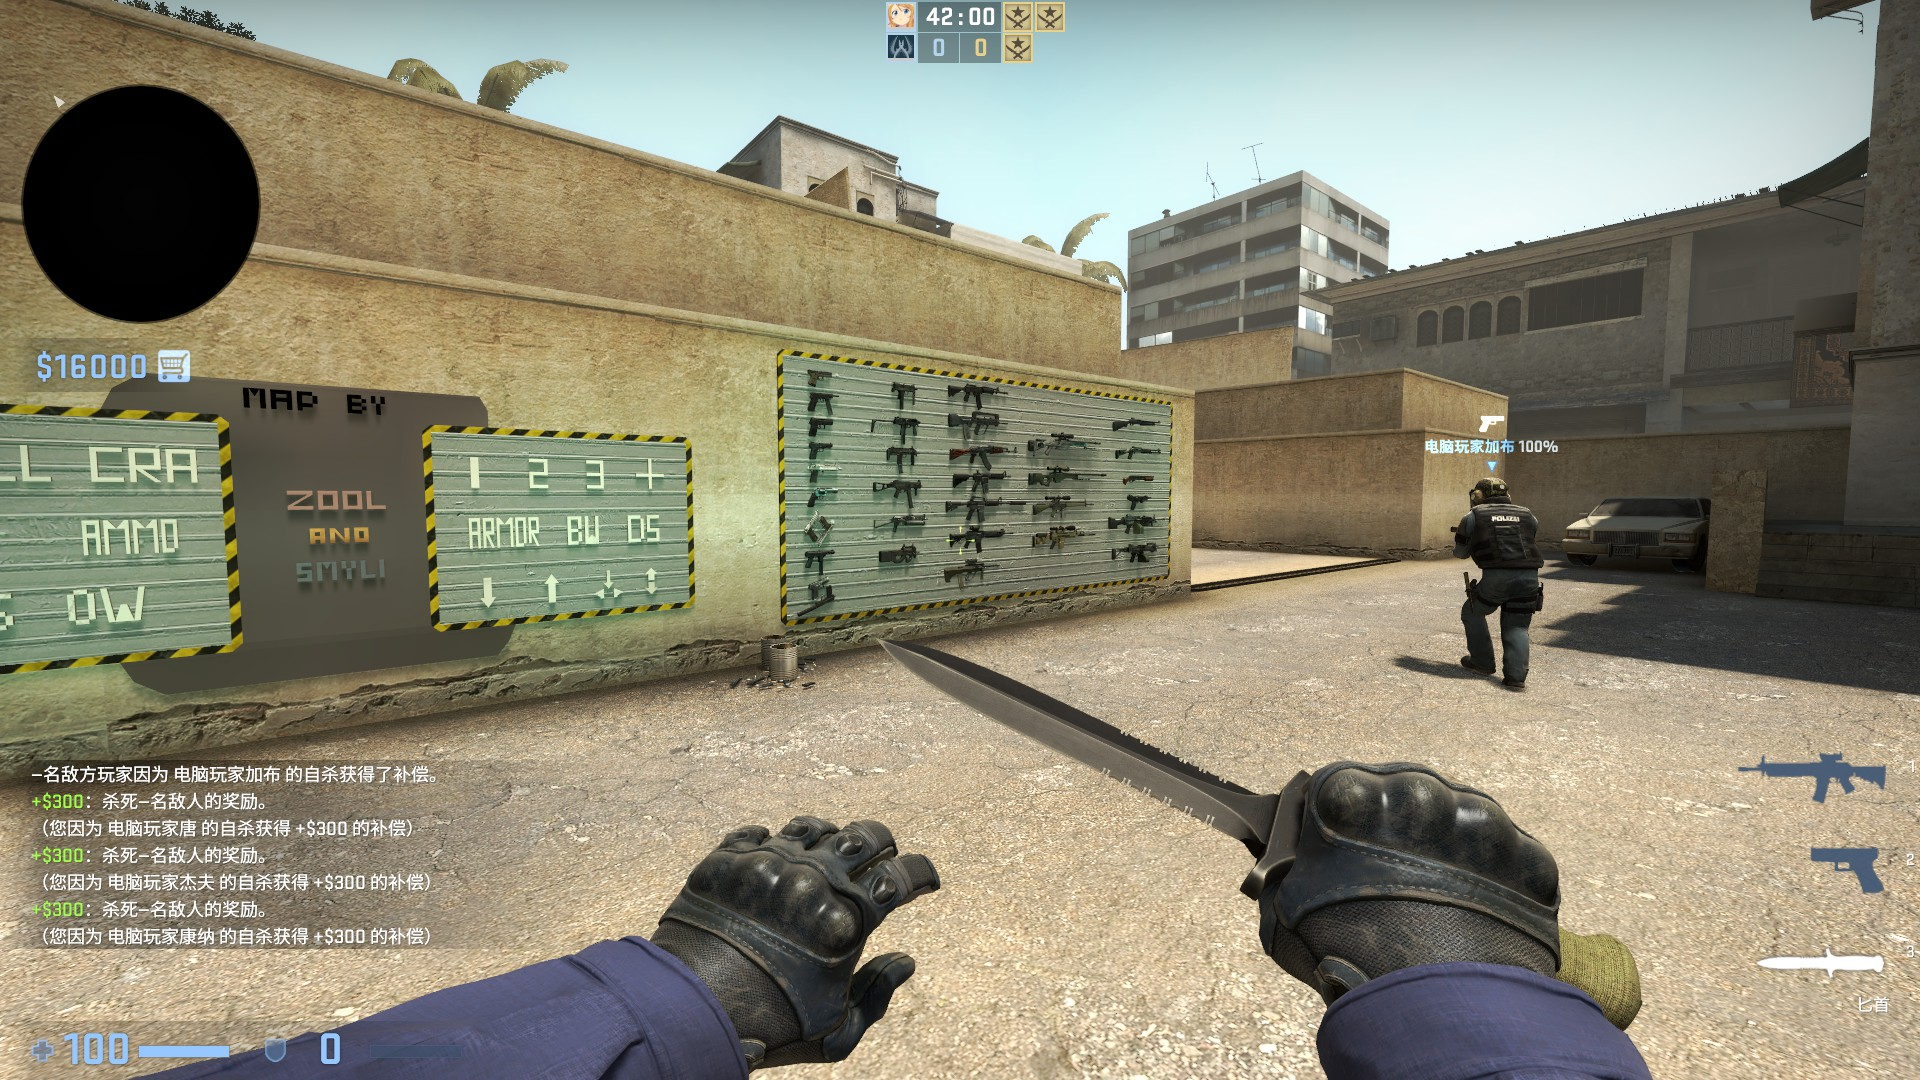head: (1465, 475, 1513, 507)
